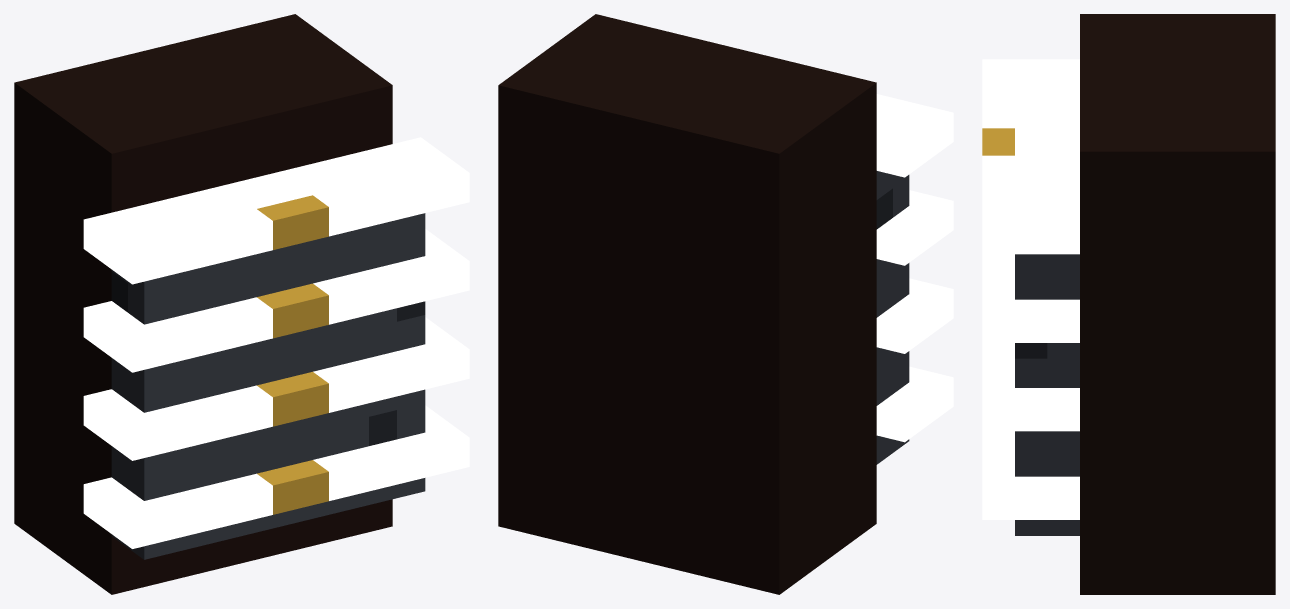
File: knuckles_epic.glb
3 views of the same model, side by side, from view 1: azimuth 30°, elevation 25°; view 2: azimuth 150°, elevation 25°; view 3: azimuth 270°, elevation 25° (orthographic).
Visible parts, largest first — view 1: knuckles_epic; view 2: knuckles_epic; view 3: knuckles_epic.
Boxes of the visible parts, x1,y1,x2,y2 form: knuckles_epic: (14, 14, 469, 594); knuckles_epic: (498, 14, 953, 594); knuckles_epic: (982, 14, 1275, 594).
Size of the model in its own units: 0.18 by 0.225 by 0.135.
